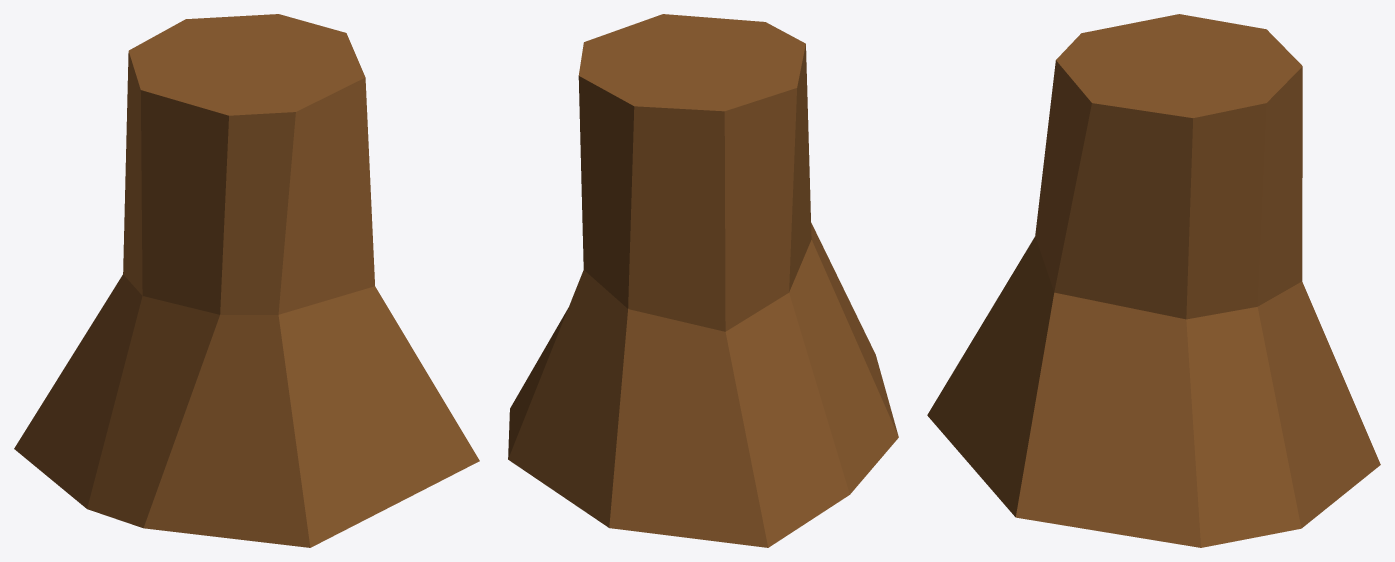
Rendered from AkarPohon1.fbx.
The picture shows the model from 3 angles, left to right: view 1: azimuth 30°, elevation 25°; view 2: azimuth 150°, elevation 25°; view 3: azimuth 270°, elevation 25°; orthographic projection. The views are drawn at different scales.
Parts seen in each view (by area): view 1: stump_2a; view 2: stump_2a; view 3: stump_2a.
Part boxes in pixels (x1,y1,x2,y2): stump_2a: (14,14,479,547); stump_2a: (508,14,898,547); stump_2a: (927,14,1380,547).
Bounding box in the file's own units: 84.77 × 98.37 × 97.71.
